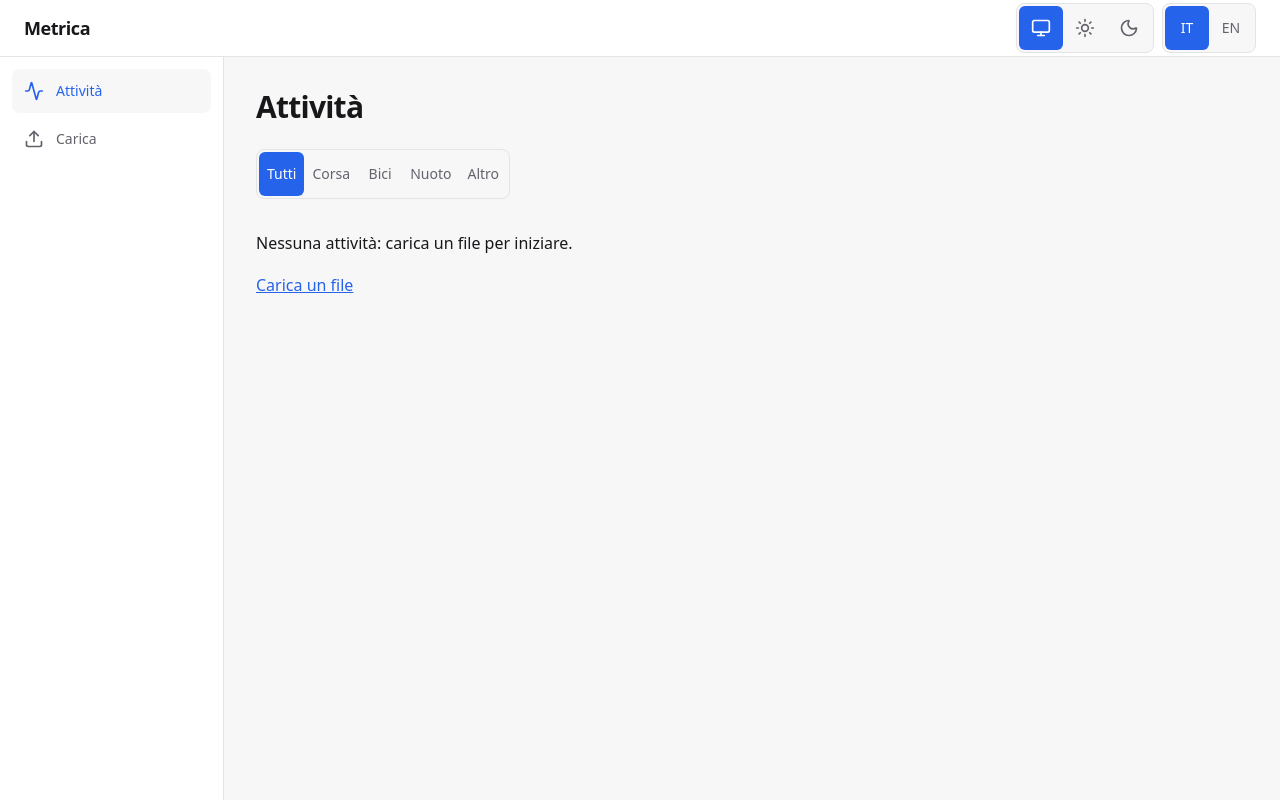
cambio lingua › passando a English cambiano i testi della navigazione e della pagina, e l'attributo lang
The width and height of the screenshot is (1280, 800).
Step 1. Click the button with aria-label "English" → {"x": 1231, "y": 28}, box [1209,6,1253,50]
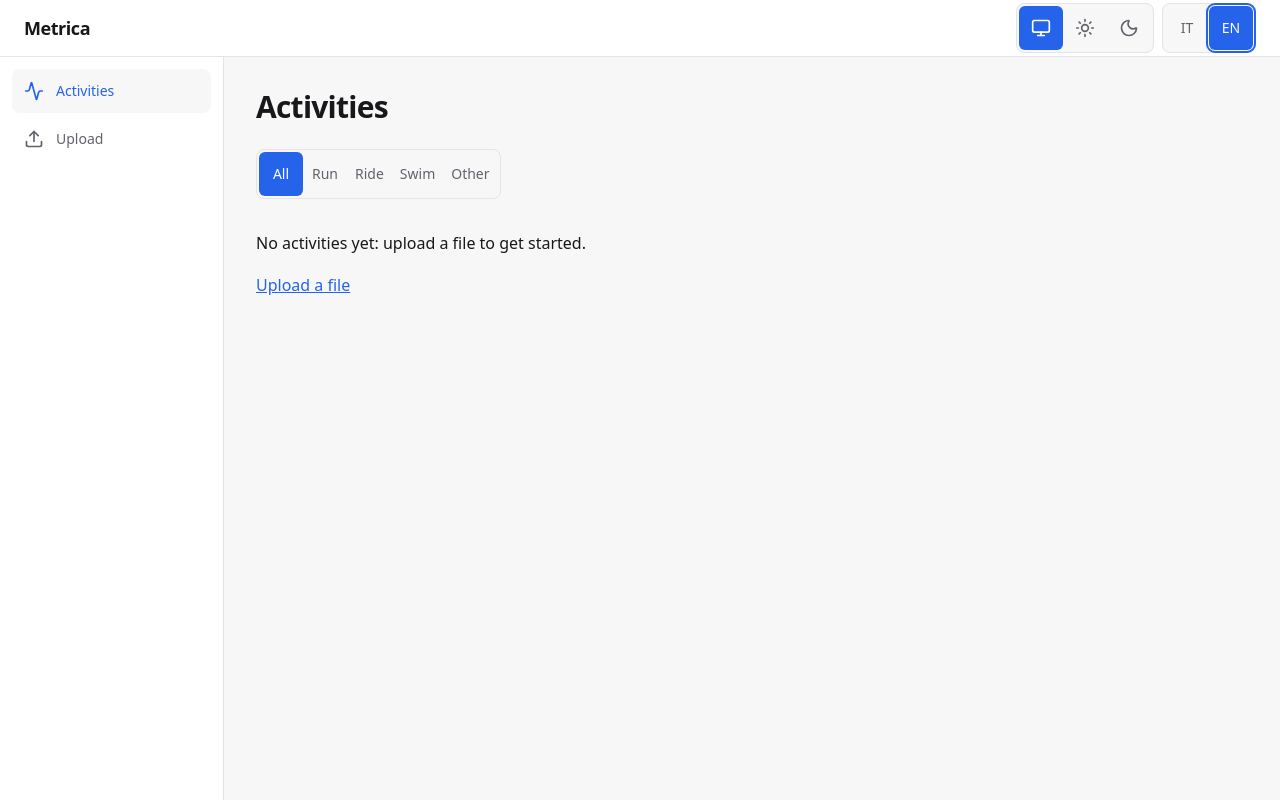
Check: the element named "Theme" is shown, box [1016,3,1154,53]
Check: the heading "Activities" is shown, box [256,86,388,127]
